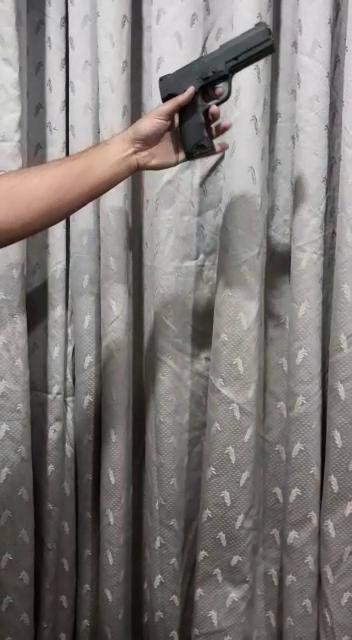weapon: (154, 15, 283, 166)
